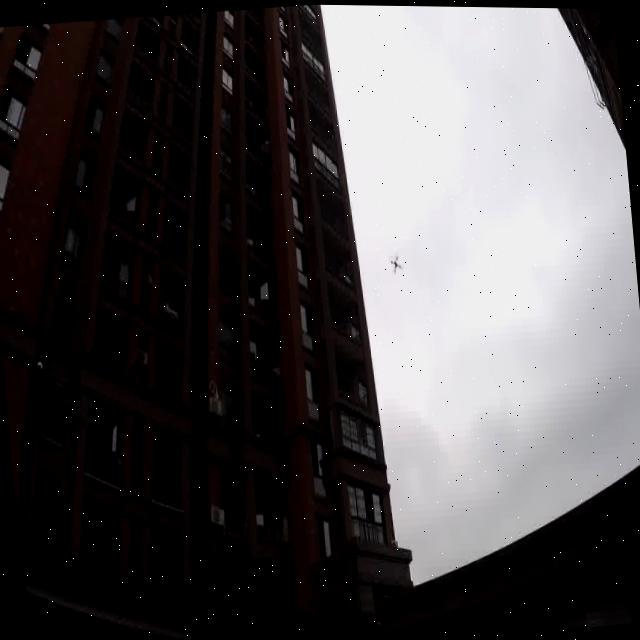drone: (388, 250, 402, 273)
